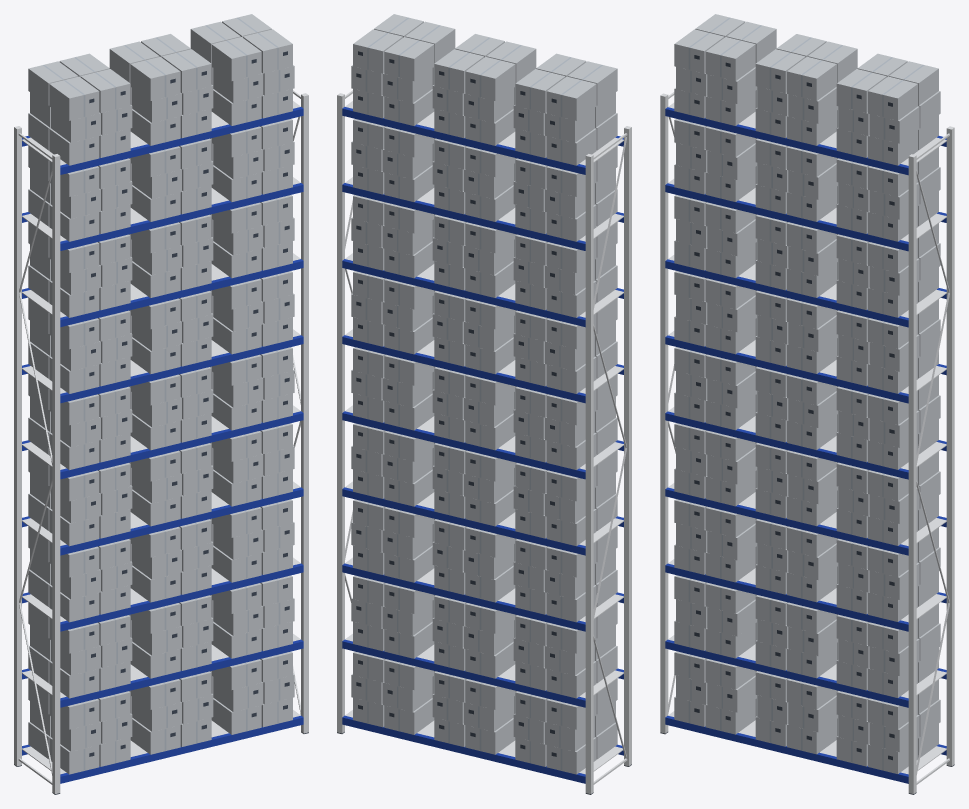
Rendered from SM_MPR_CADRack_F9_W144_Standard_LOD1.fbx.
3 views of the same model, side by side, from view 1: azimuth 30°, elevation 25°; view 2: azimuth 150°, elevation 25°; view 3: azimuth 330°, elevation 25° (orthographic).
Visible parts, largest first — view 1: SM_MPR_CADRack_F9_W144_Standard_LOD1; view 2: SM_MPR_CADRack_F9_W144_Standard_LOD1; view 3: SM_MPR_CADRack_F9_W144_Standard_LOD1.
Part boxes in pixels (bbox=[...]): SM_MPR_CADRack_F9_W144_Standard_LOD1: bbox=[14, 14, 308, 794]; SM_MPR_CADRack_F9_W144_Standard_LOD1: bbox=[337, 14, 631, 794]; SM_MPR_CADRack_F9_W144_Standard_LOD1: bbox=[660, 14, 954, 794].
Size of the model in its own units: 381 by 107 by 994.
